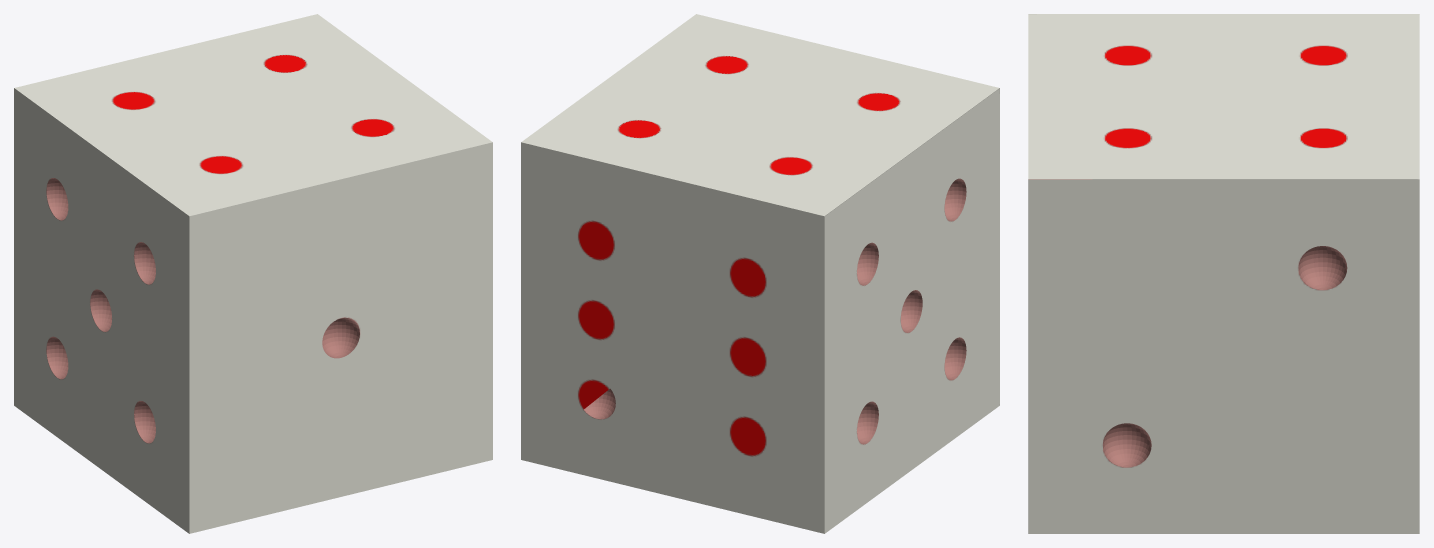
File: dice.fbx
3 renders of one model, left to right at view 1: azimuth 30°, elevation 25°; view 2: azimuth 150°, elevation 25°; view 3: azimuth 270°, elevation 25°, orthographic. The views are drawn at different scales.
Visible parts, largest first — view 1: Cube; view 2: Cube; view 3: Cube.
Part boxes in pixels (bbox=[...]): Cube: bbox=[14, 14, 492, 533]; Cube: bbox=[521, 14, 999, 533]; Cube: bbox=[1028, 14, 1419, 533].
Size of the model in its own units: 200 by 200 by 200.
1 material, 1 textured.
